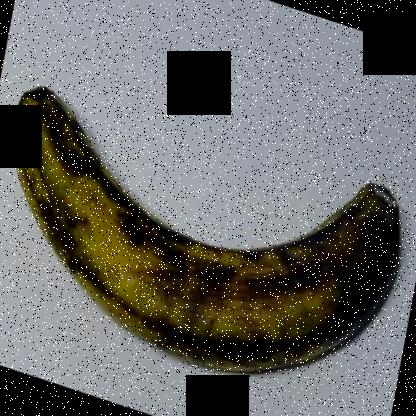overripe: (7, 82, 410, 379)
rotten: (308, 170, 408, 340)
